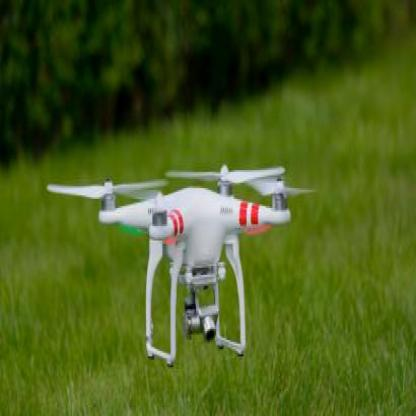drone: (64, 145, 335, 318)
